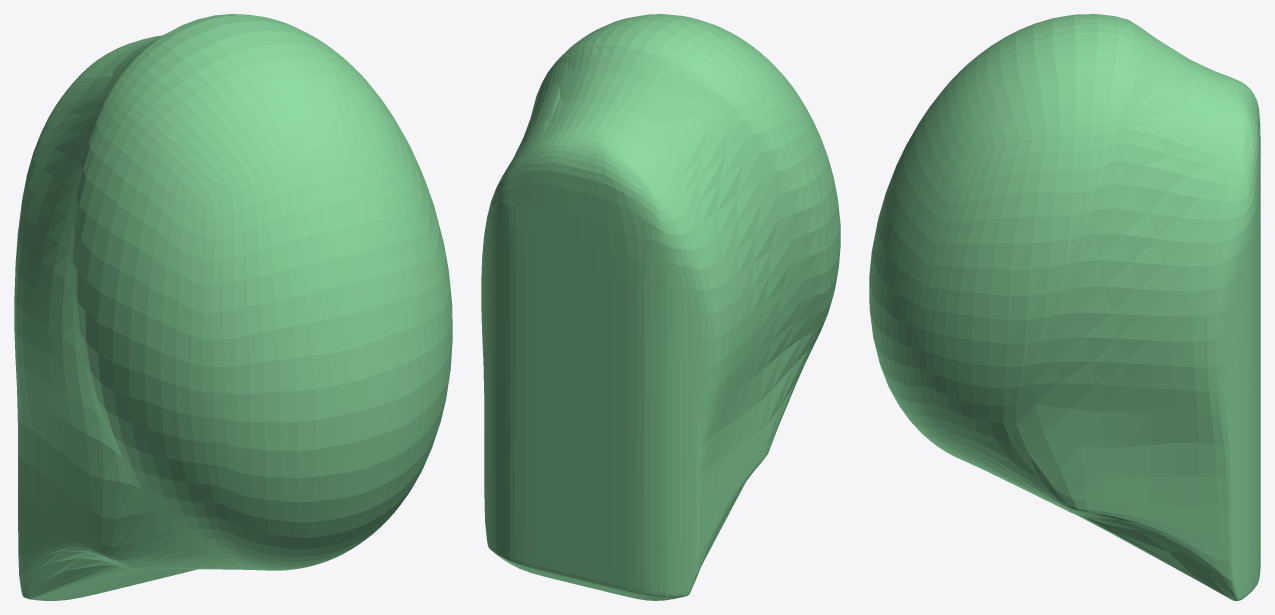
The model's file is th_distal_bt_sp.dae.
3 views of the same model, side by side, from view 1: azimuth 30°, elevation 25°; view 2: azimuth 150°, elevation 25°; view 3: azimuth 270°, elevation 25° (orthographic). The views are drawn at different scales.
Parts seen in each view (by area): view 1: th_distal_bt_sp; view 2: th_distal_bt_sp; view 3: th_distal_bt_sp.
Boxes of the visible parts, x1,y1,x2,y2 form: th_distal_bt_sp: [14, 14, 452, 600]; th_distal_bt_sp: [481, 14, 840, 600]; th_distal_bt_sp: [869, 14, 1260, 600].
Size of the model in its own units: 19.97 by 22.96 by 34.7.
